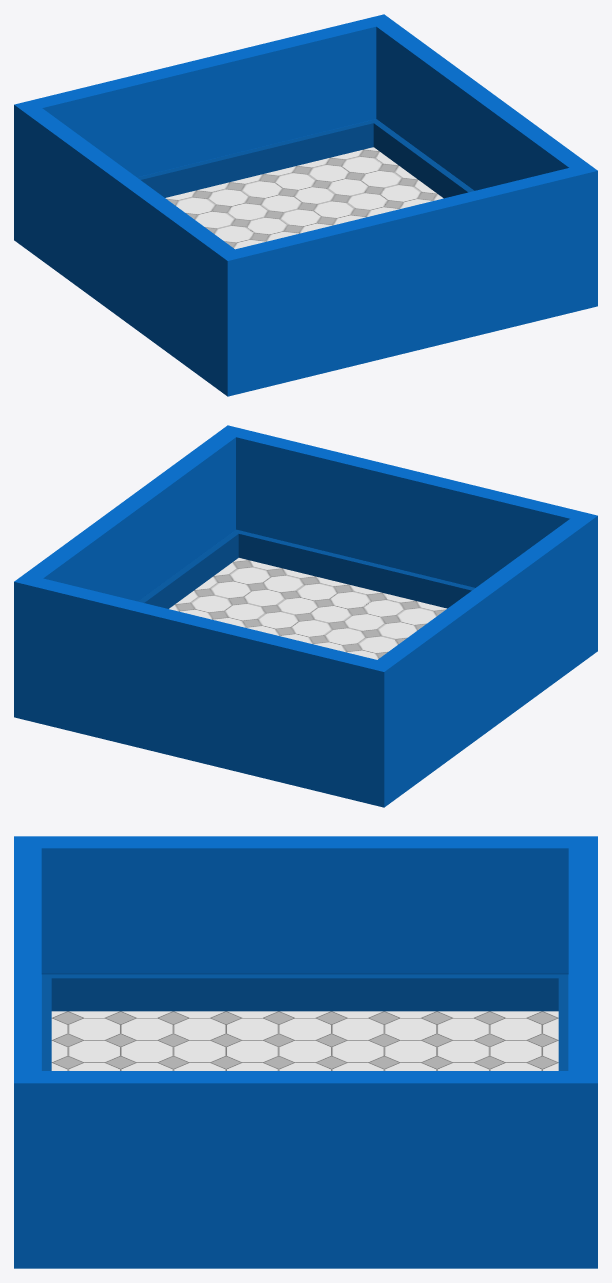
Rendered from Office.glb.
3 views of the same model, one above another, from view 1: azimuth 30°, elevation 25°; view 2: azimuth 150°, elevation 25°; view 3: azimuth 270°, elevation 25° (orthographic). The views are drawn at different scales.
Visible parts, largest first — view 1: Cube; view 2: Cube; view 3: Cube.
Part boxes in pixels (left/top/right/bottom): Cube: left=14, top=14, right=597, bottom=396; Cube: left=14, top=425, right=597, bottom=807; Cube: left=14, top=836, right=597, bottom=1268.
Bounding box in the file's own units: 20 × 7 × 20.
Materials: 2 (2 with a texture image).
